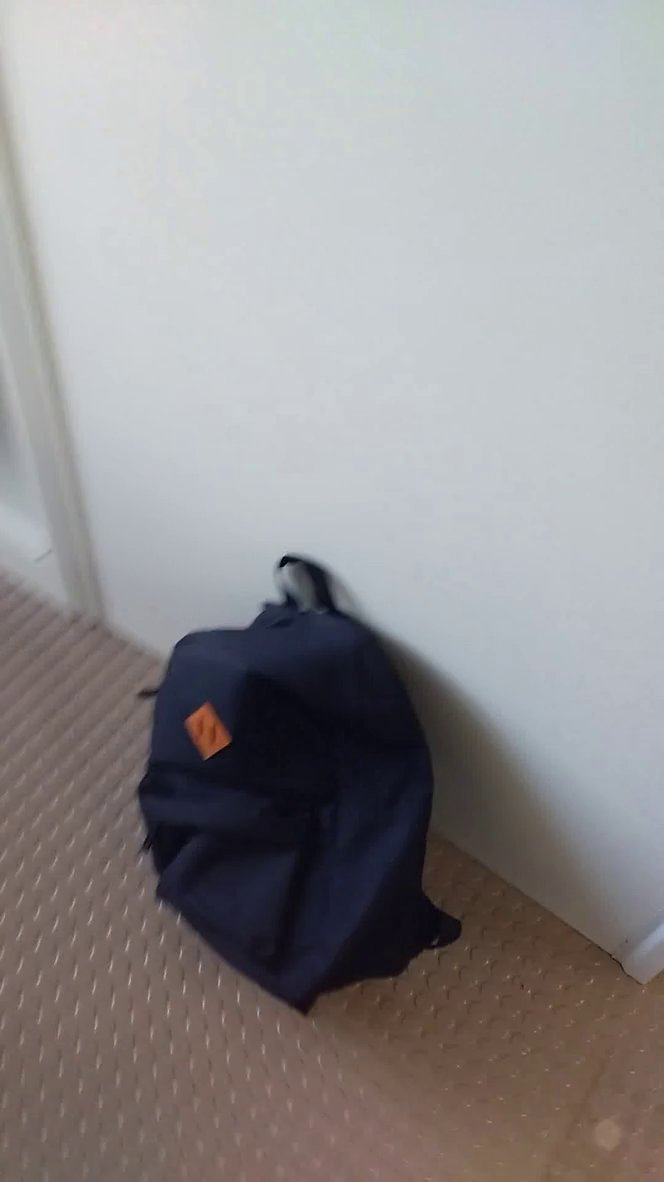bag: (115, 530, 480, 1031)
